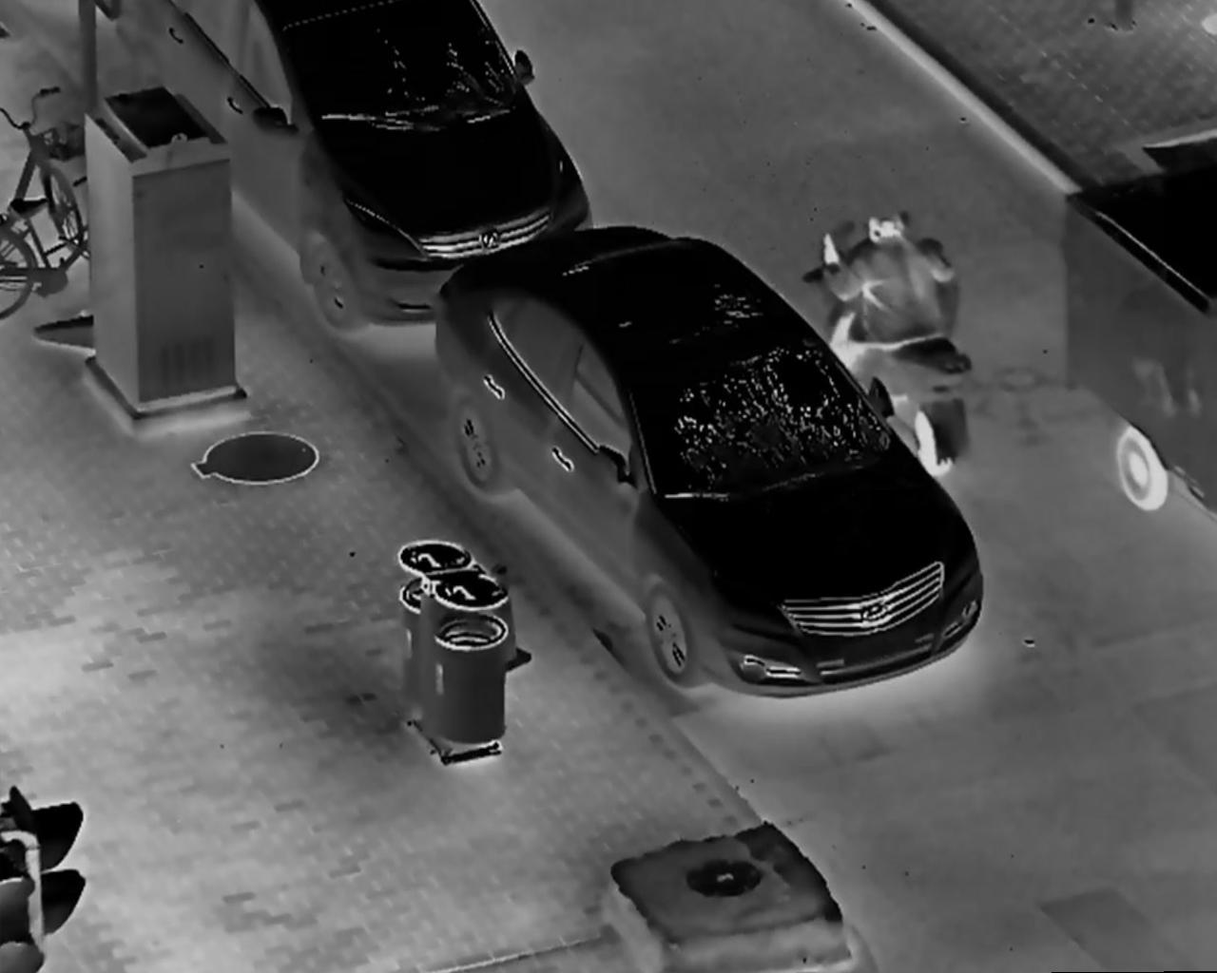person: (822, 211, 979, 409)
